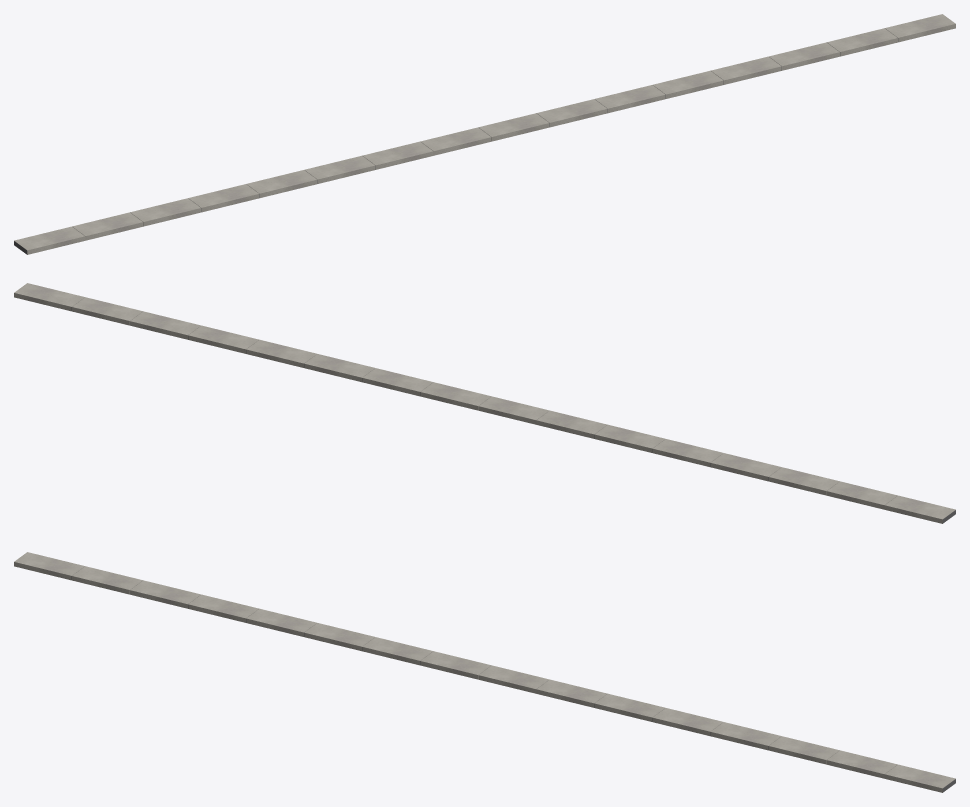
Rendered from island.glb.
The picture shows the model from 3 angles, top to bottom: view 1: azimuth 30°, elevation 25°; view 2: azimuth 150°, elevation 25°; view 3: azimuth 330°, elevation 25°; orthographic projection.
Parts seen in each view (by area): view 1: island_concrete; view 2: island_concrete; view 3: island_concrete.
Boxes of the visible parts, <box> form: island_concrete: <box>14,14,955,254</box>; island_concrete: <box>14,283,955,523</box>; island_concrete: <box>14,552,955,792</box>.
Size of the model in its own units: 31.99 by 0.15 by 0.8.
2 materials, 1 textured.
